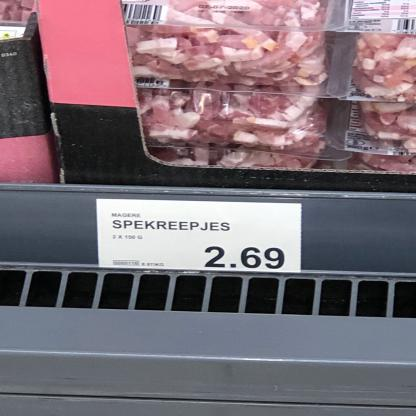prtg: (97, 199, 303, 274)
